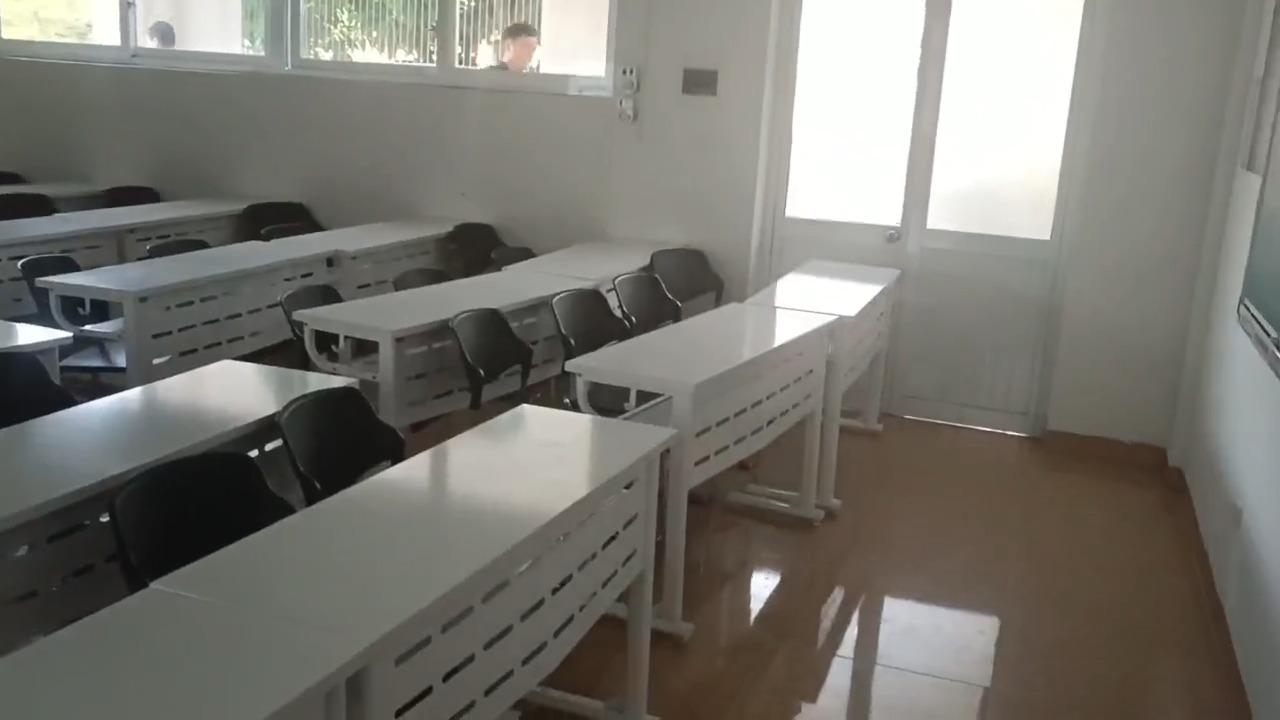chair: (110, 454, 308, 572), (274, 385, 406, 500), (456, 304, 539, 407), (1, 350, 90, 427), (551, 289, 636, 356), (648, 251, 727, 313), (439, 220, 507, 278), (614, 274, 680, 326), (277, 286, 353, 318), (251, 200, 324, 230), (149, 235, 212, 263), (22, 257, 80, 287), (3, 193, 52, 225), (93, 186, 158, 210), (493, 242, 541, 271), (252, 226, 325, 243), (393, 272, 455, 290)
table: (147, 406, 676, 719), (570, 303, 839, 631), (0, 360, 352, 520), (0, 586, 356, 719), (300, 272, 595, 422), (49, 242, 335, 379), (740, 256, 904, 489), (286, 220, 462, 292), (60, 197, 250, 263), (499, 243, 663, 285), (3, 321, 71, 377), (0, 180, 108, 199)
